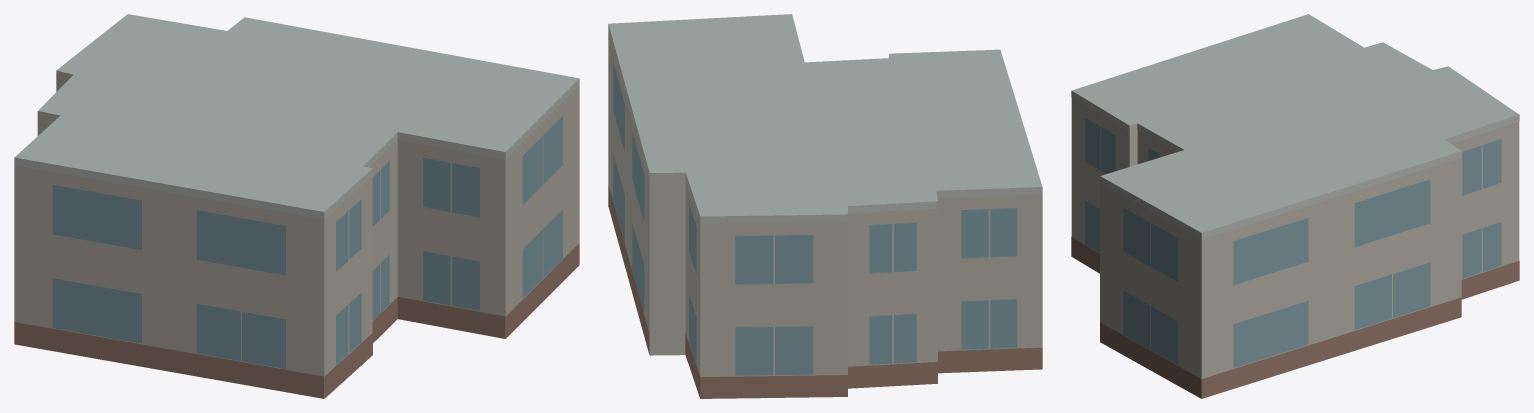
The model's file is survey-upis-32839112.glb.
The picture shows the model from 3 angles, left to right: view 1: azimuth 30°, elevation 25°; view 2: azimuth 150°, elevation 25°; view 3: azimuth 270°, elevation 25°; orthographic projection. The views are drawn at different scales.
Visible parts, largest first — view 1: survey-upis-32839112.tmp; view 2: survey-upis-32839112.tmp; view 3: survey-upis-32839112.tmp.
Boxes of the visible parts, left/top/right/bottom form: survey-upis-32839112.tmp: left=14, top=14, right=579, bottom=398; survey-upis-32839112.tmp: left=608, top=14, right=1042, bottom=398; survey-upis-32839112.tmp: left=1071, top=14, right=1519, bottom=398.
Size of the model in its own units: 17.26 by 6.1 by 14.92.
